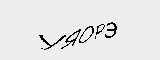О: (77, 24, 93, 46)
Р: (93, 22, 105, 44)
У: (37, 31, 65, 51)
Э: (103, 20, 117, 41)
Я: (58, 28, 81, 49)
